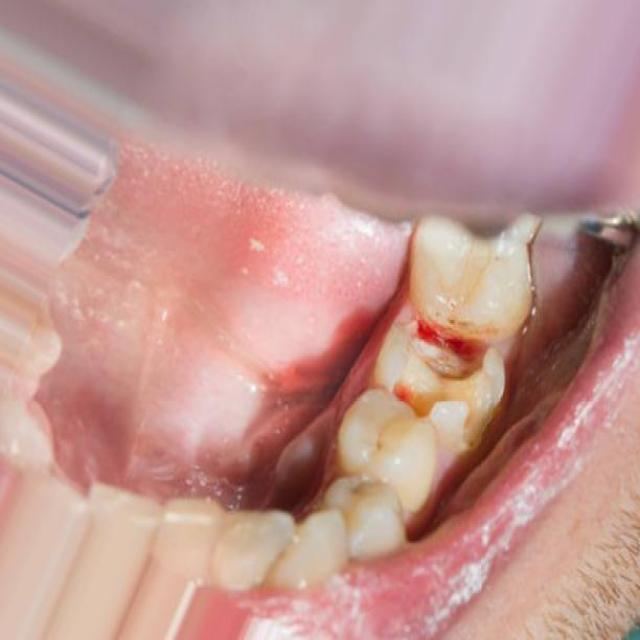caries: (395, 262, 518, 402)
